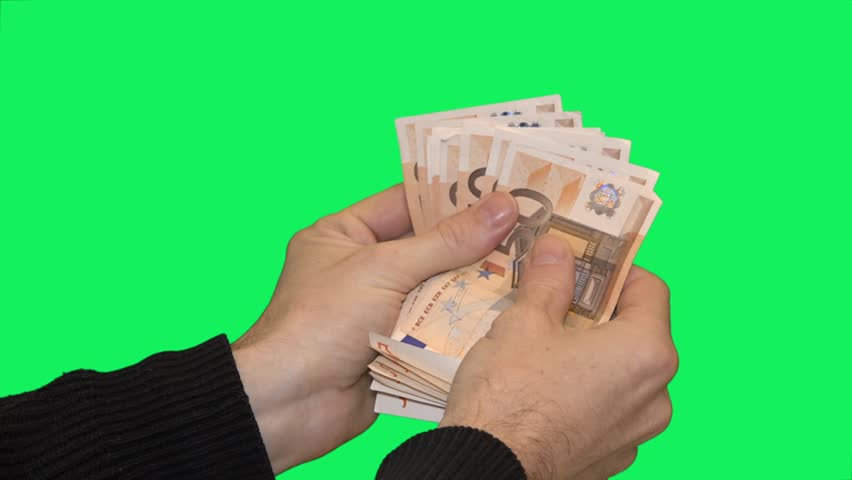billete: (365, 92, 670, 427)
